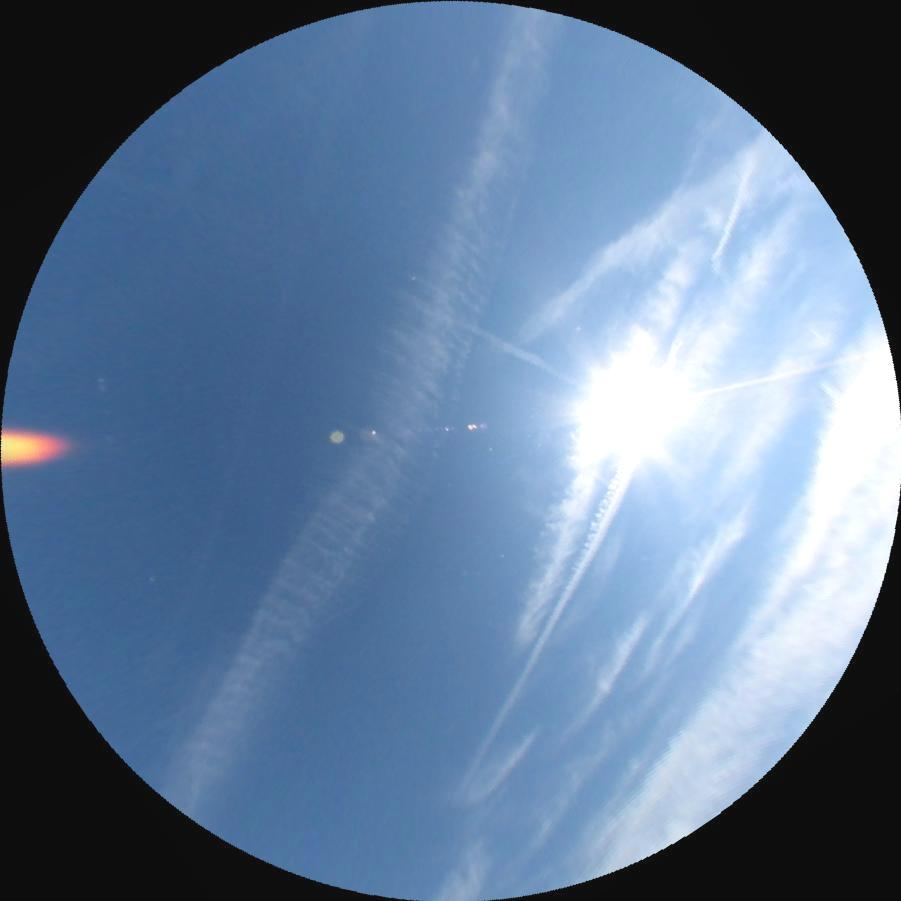contrail veryold: (450, 129, 789, 810), (489, 221, 716, 648), (501, 125, 797, 355), (397, 289, 592, 392)
parasite: (671, 343, 889, 406)
sun: (568, 359, 678, 469)
